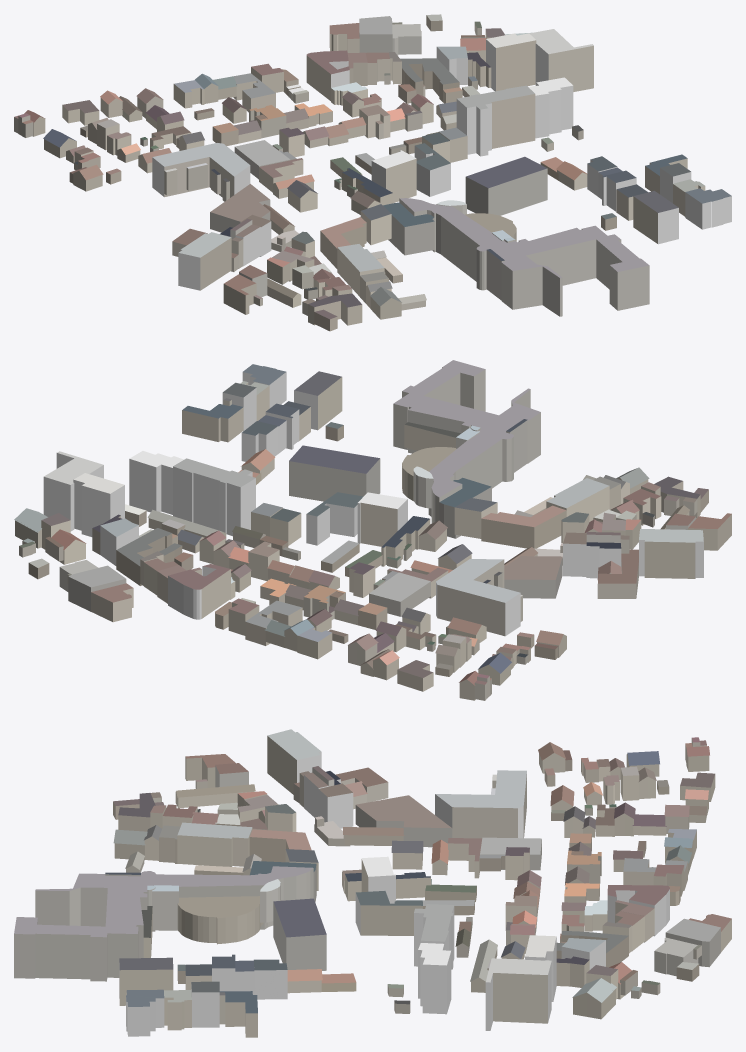
The picture shows the model from 3 angles, top to bottom: view 1: azimuth 30°, elevation 25°; view 2: azimuth 150°, elevation 25°; view 3: azimuth 270°, elevation 25°; orthographic projection. The views are drawn at different scales.
Visible parts, largest first — view 1: tuile; view 2: tuile; view 3: tuile.
Boxes of the visible parts, box(x1,y1,x2,y2) form: tuile: box(14, 14, 731, 331); tuile: box(14, 360, 731, 700); tuile: box(14, 729, 731, 1037).
Size of the model in its own units: 276 by 38.42 by 300.
